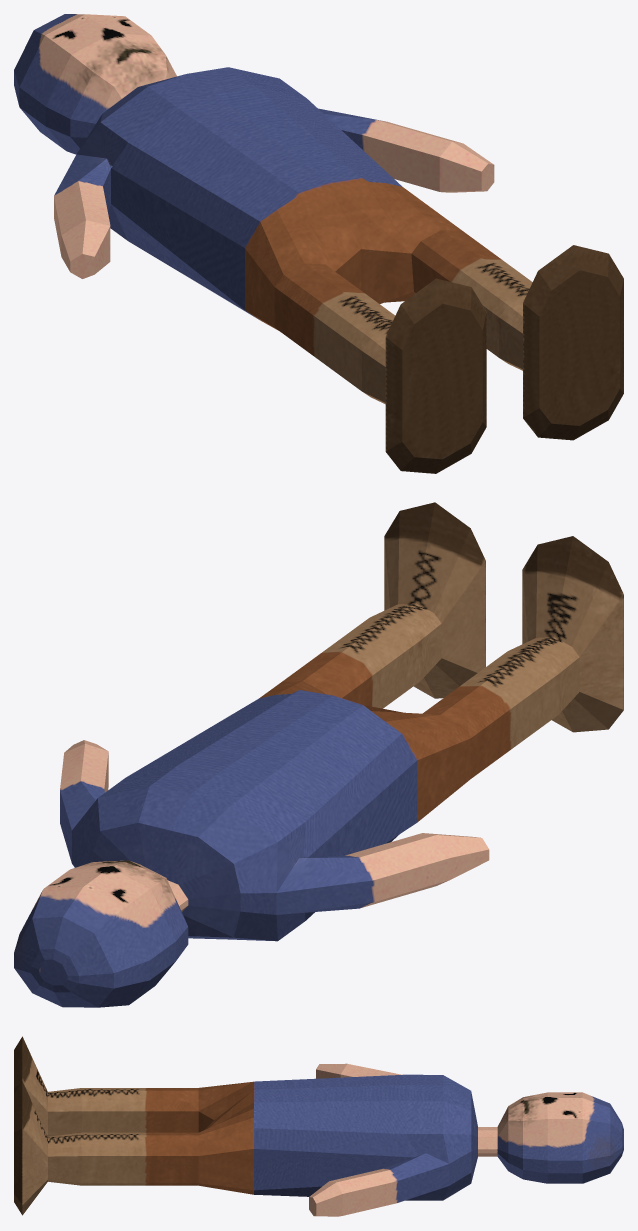
Rendered from ALDEANOBB.obj.
3 renders of one model, top to bottom at view 1: azimuth 30°, elevation 25°; view 2: azimuth 150°, elevation 25°; view 3: azimuth 270°, elevation 25°, orthographic. The views are drawn at different scales.
Parts seen in each view (by area): view 1: Plane.000_Plane.006; view 2: Plane.000_Plane.006; view 3: Plane.000_Plane.006.
Boxes of the visible parts, box(x1,y1,x2,y2) form: Plane.000_Plane.006: box(14, 14, 623, 473); Plane.000_Plane.006: box(14, 502, 623, 1007); Plane.000_Plane.006: box(14, 1036, 623, 1216).
Bounding box in the file's own units: 2.13 × 0.9507 × 4.02.
Materials: 1 (1 with a texture image).
